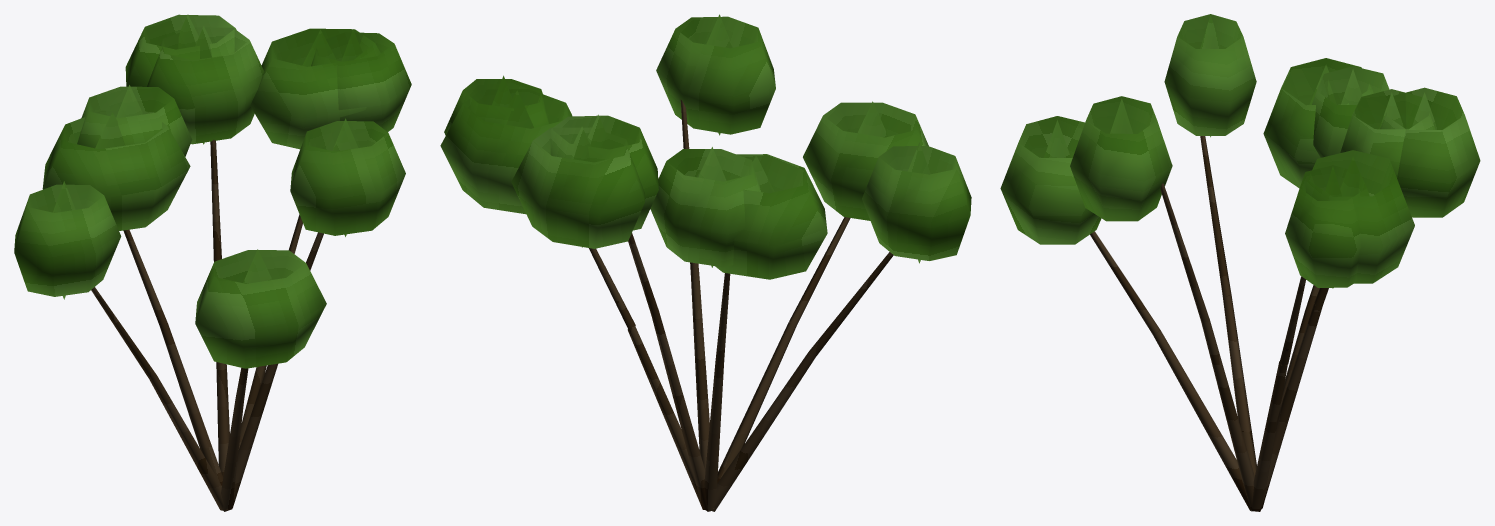
File: filbert_01-lod1.glb
3 views of the same model, side by side, from view 1: azimuth 30°, elevation 25°; view 2: azimuth 150°, elevation 25°; view 3: azimuth 270°, elevation 25° (orthographic). The views are drawn at different scales.
Visible parts, largest first — view 1: TZ_filbert_shrub_Batch_00_LOD1, TZ_filbert_shrub_Batch_01_LOD1; view 2: TZ_filbert_shrub_Batch_00_LOD1, TZ_filbert_shrub_Batch_01_LOD1; view 3: TZ_filbert_shrub_Batch_00_LOD1, TZ_filbert_shrub_Batch_01_LOD1.
Part boxes in pixels (bbox=[...]): TZ_filbert_shrub_Batch_00_LOD1: bbox=[14, 14, 411, 368]; TZ_filbert_shrub_Batch_01_LOD1: bbox=[91, 139, 323, 511]; TZ_filbert_shrub_Batch_00_LOD1: bbox=[440, 14, 971, 279]; TZ_filbert_shrub_Batch_01_LOD1: bbox=[589, 99, 893, 511]; TZ_filbert_shrub_Batch_00_LOD1: bbox=[1000, 14, 1480, 288]; TZ_filbert_shrub_Batch_01_LOD1: bbox=[1090, 136, 1328, 511].
Size of the model in its own units: 1.81 by 1.65 by 1.63.
2 materials, 2 textured.
